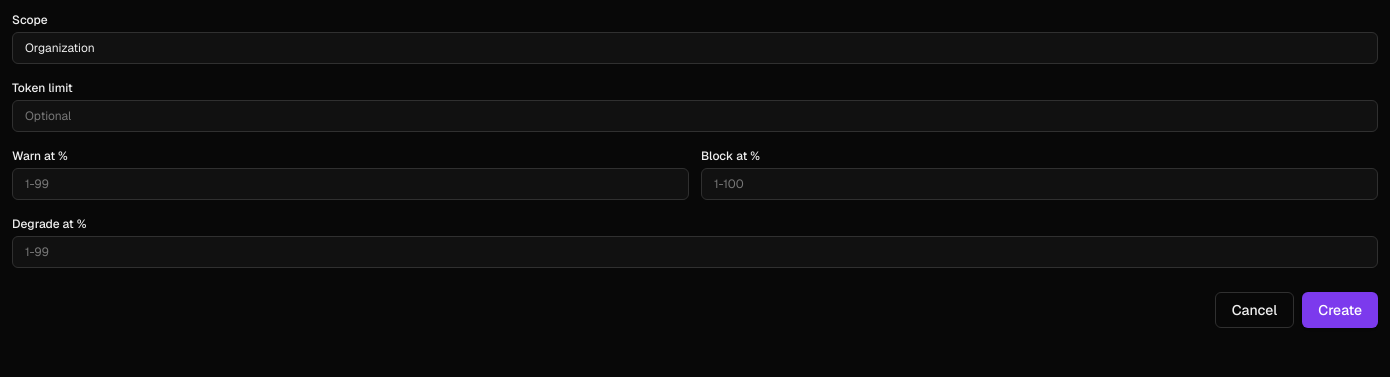
Test: PolicyEditor › falls back to a generic message when a save fails otherwise
Click the button "Create": (1340,310) [1302,292,1378,328]
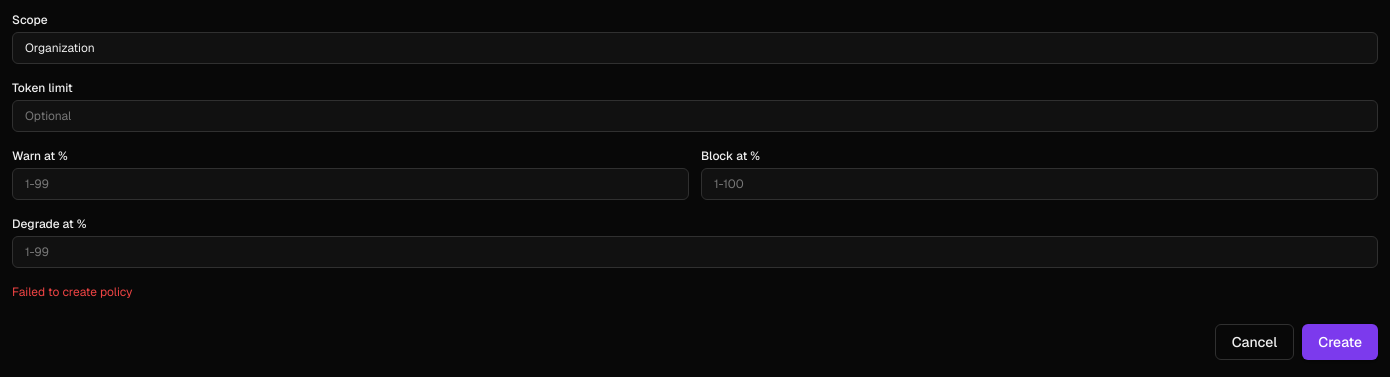
Expected: the message reads "Failed to create policy", [12,284,132,300]
